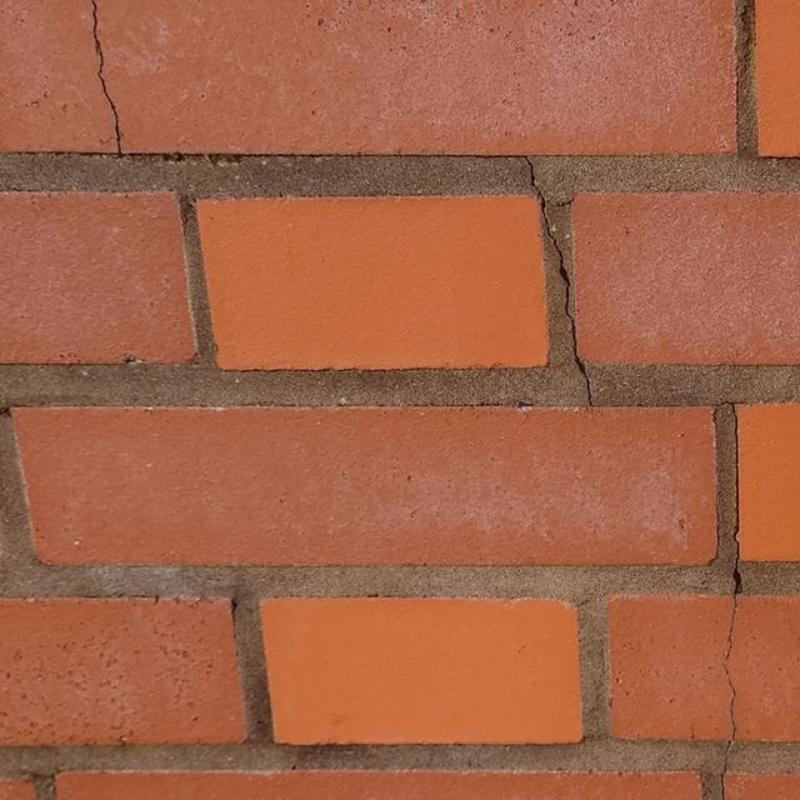pothole: (524, 155, 592, 405), (719, 401, 750, 800), (91, 0, 122, 154)
